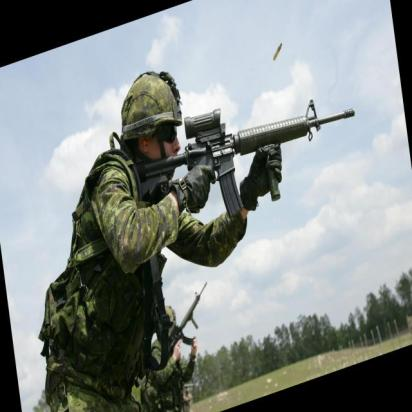Gun: (123, 94, 358, 274)
